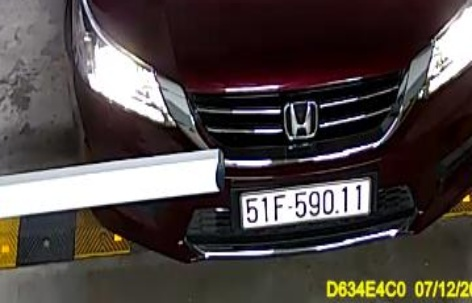plate: (236, 165, 390, 235)
